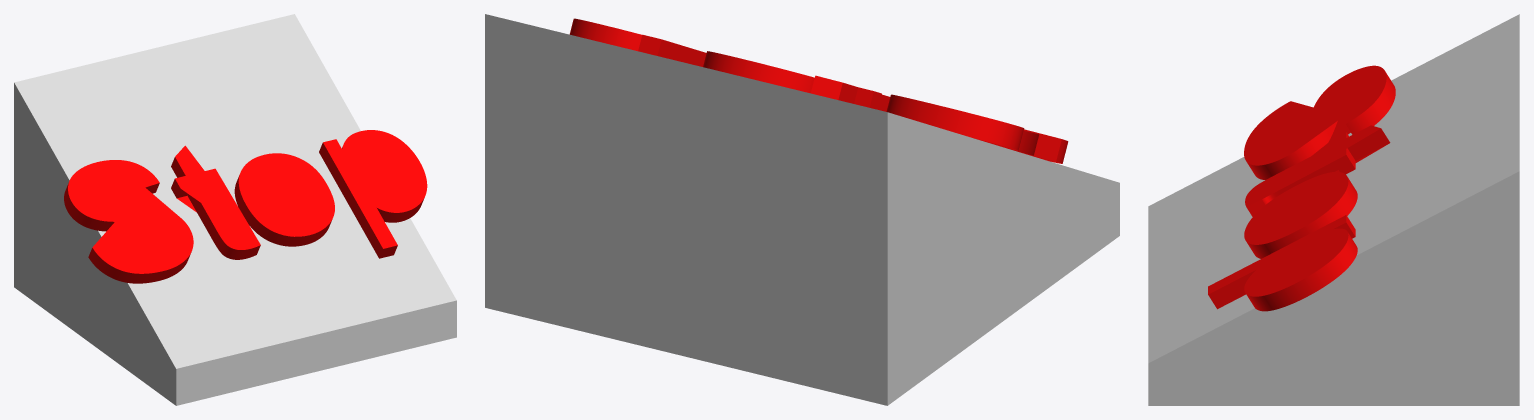
Rendered from testStopped.FBX.
The picture shows the model from 3 angles, left to right: view 1: azimuth 30°, elevation 25°; view 2: azimuth 150°, elevation 25°; view 3: azimuth 270°, elevation 25°; orthographic projection. The views are drawn at different scales.
Visible parts, largest first — view 1: Box001, Text001; view 2: Box001, Text001; view 3: Box001, Text001.
Boxes of the visible parts, x1,y1,x2,y2 form: Box001: (14,14,456,405); Text001: (64,130,427,283); Box001: (485,14,1119,405); Text001: (569,18,1068,163); Box001: (1148,14,1519,405); Text001: (1208,65,1395,311).
Bounding box in the file's own units: 177 × 105 × 150.
